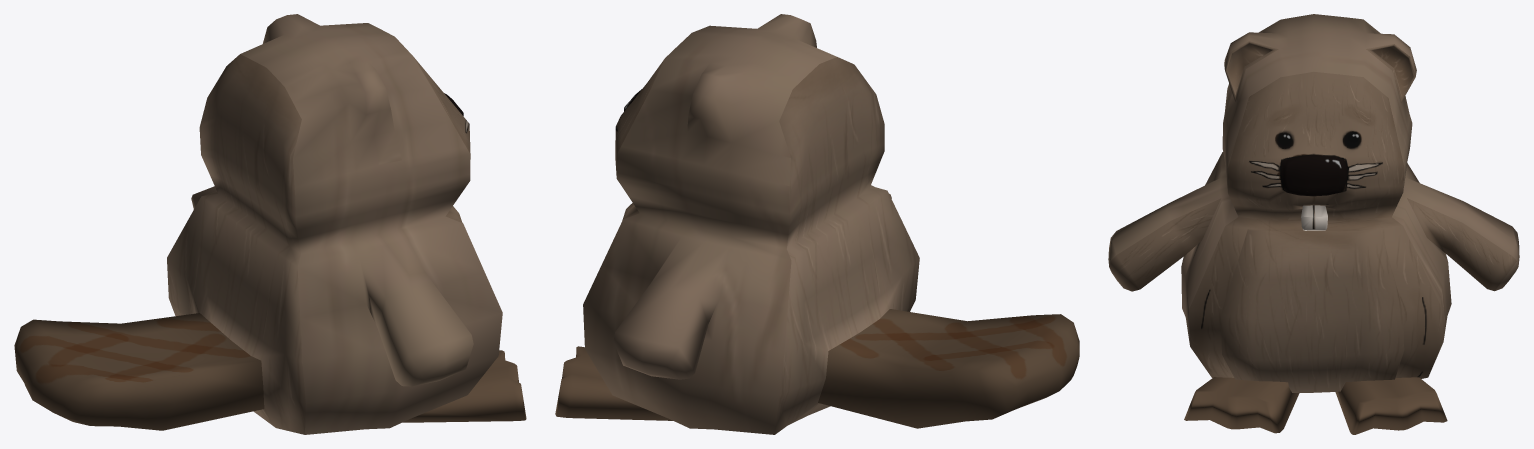
Rendered from Bobrik.fbx.
3 renders of one model, left to right at view 1: azimuth 30°, elevation 25°; view 2: azimuth 150°, elevation 25°; view 3: azimuth 270°, elevation 25°, orthographic. The views are drawn at different scales.
Visible parts, largest first — view 1: Cube, Cube.001; view 2: Cube, Cube.002; view 3: Cube, Cube.002, Cube.001.
Part boxes in pixels (x1,y1,x2,y2): Cube: (14, 14, 502, 434); Cube.001: (402, 350, 526, 422); Cube: (583, 14, 1079, 434); Cube.002: (555, 346, 672, 420); Cube: (1108, 14, 1519, 392); Cube.002: (1335, 377, 1447, 434); Cube.001: (1184, 377, 1299, 433).
Size of the model in its own units: 567 by 421 by 473.
Materials: 3 (3 with a texture image).
